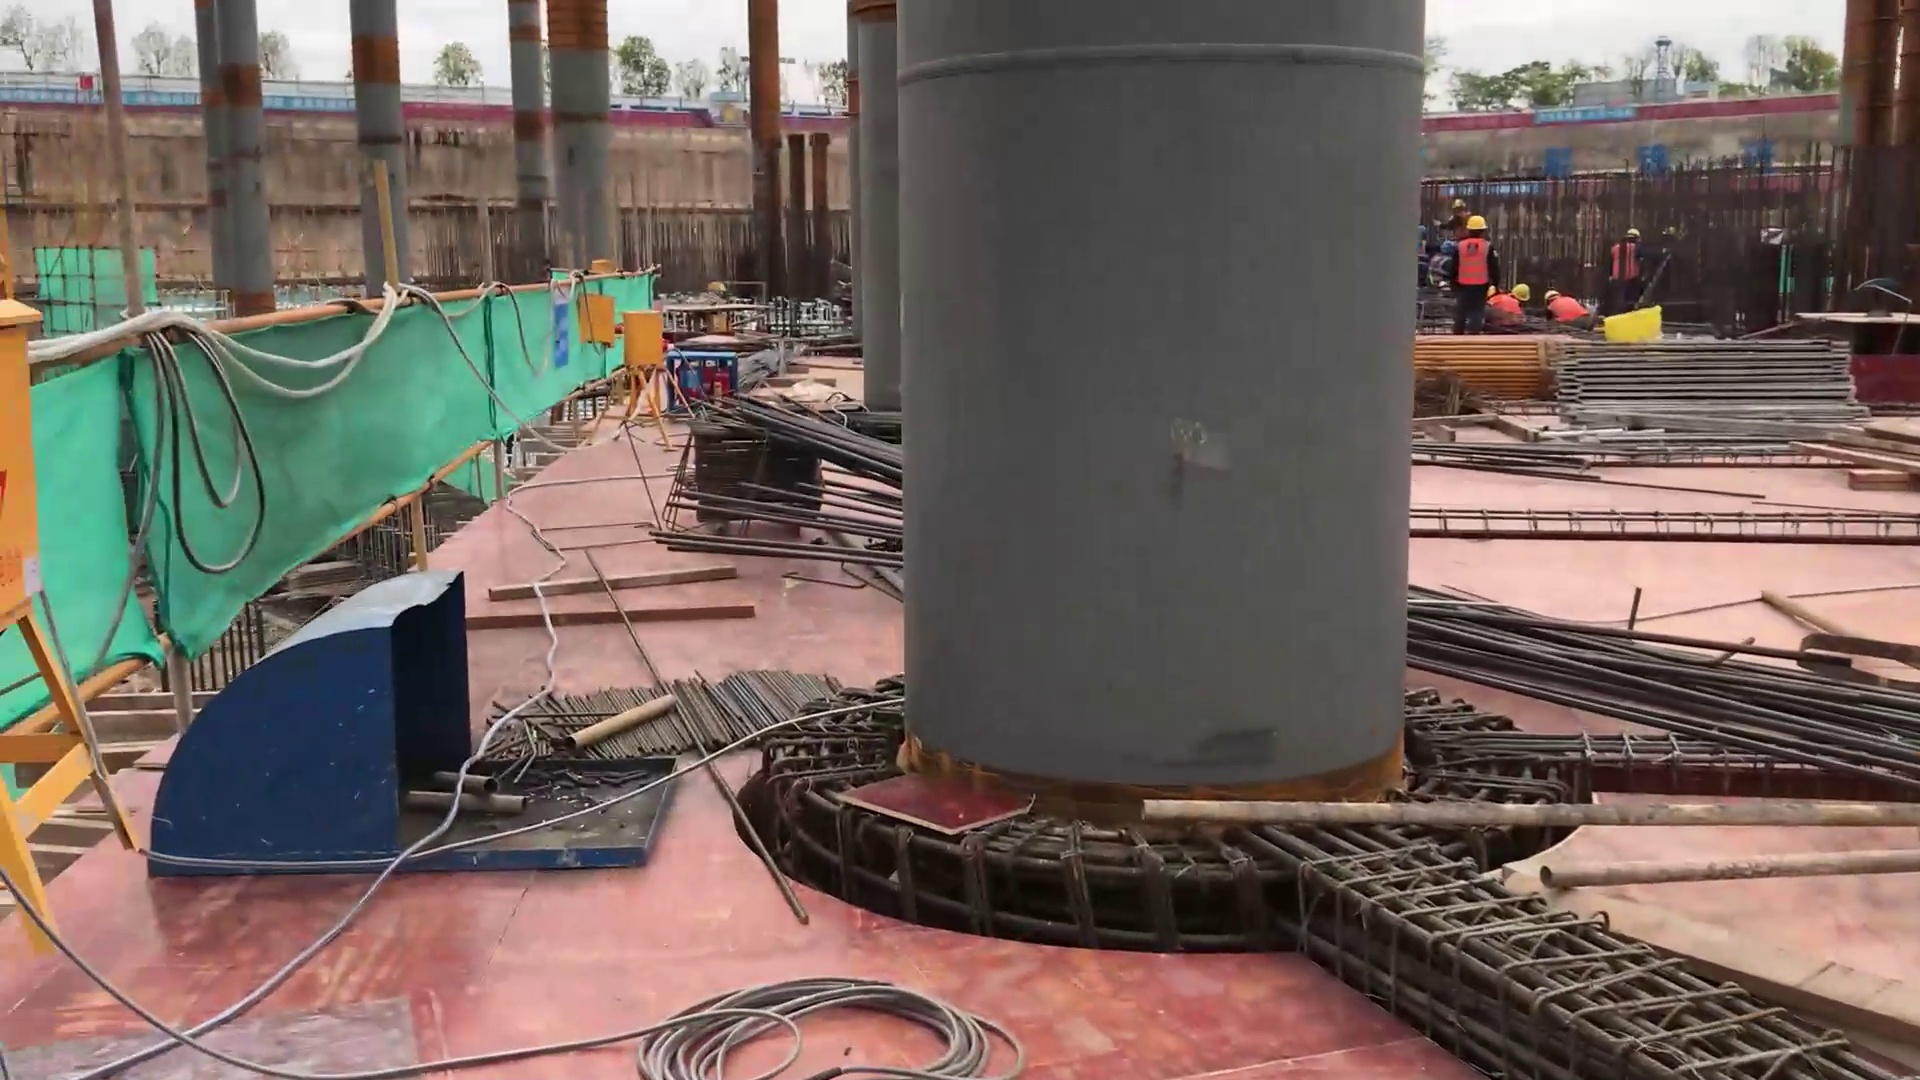cutter: (1843, 271, 1920, 365), (664, 287, 763, 347)
ebox: (1, 411, 58, 699), (614, 302, 659, 366), (568, 291, 613, 341)
helmet: (1467, 215, 1491, 230), (1484, 283, 1504, 298), (1438, 238, 1453, 254), (1518, 283, 1531, 303), (1545, 287, 1560, 304), (1418, 224, 1429, 242), (1455, 197, 1471, 209), (1629, 228, 1642, 241), (1663, 225, 1677, 237)
person: (1609, 222, 1646, 301), (1459, 217, 1482, 333), (1539, 287, 1594, 333), (1493, 281, 1534, 317), (1433, 238, 1454, 288), (1447, 200, 1470, 237), (1417, 224, 1430, 283)
rebar: (1406, 551, 1920, 788)
vest: (1460, 237, 1489, 283), (1552, 297, 1588, 322), (1613, 243, 1637, 280), (1488, 290, 1519, 312), (1428, 254, 1450, 279), (1416, 238, 1429, 273)
